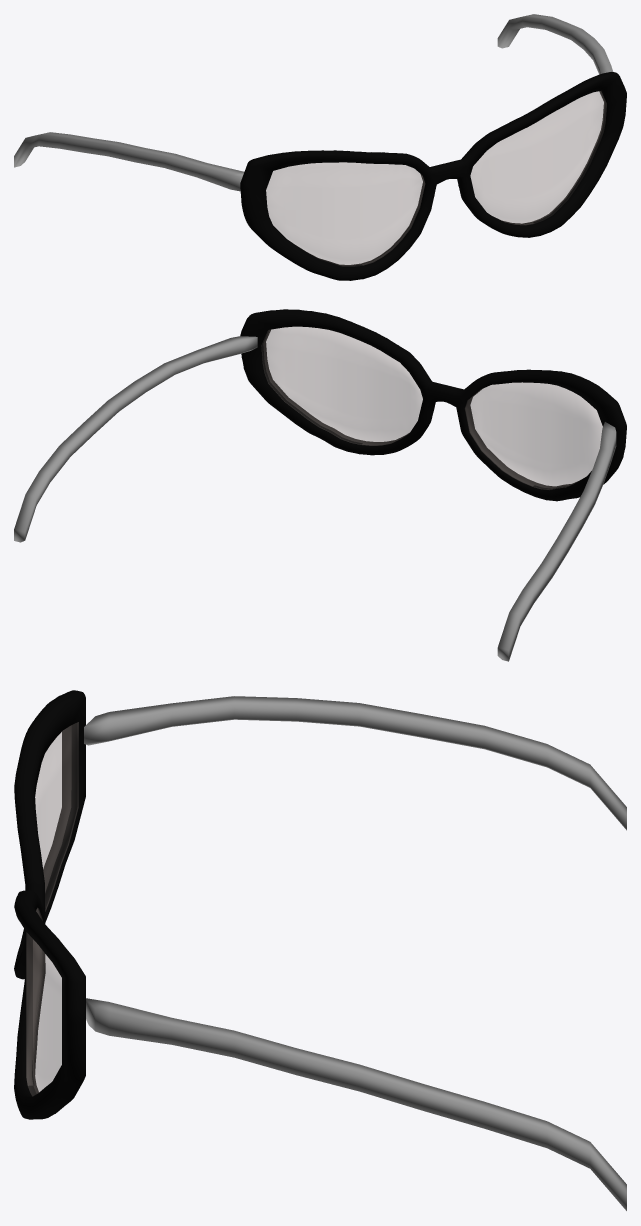
3 renders of one model, top to bottom at view 1: azimuth 30°, elevation 25°; view 2: azimuth 150°, elevation 25°; view 3: azimuth 270°, elevation 25°, orthographic. The views are drawn at different scales.
Parts seen in each view (by area): view 1: glassesCateye; view 2: glassesCateye; view 3: glassesCateye.
Part boxes in pixels (x1,y1,x2,y2): glassesCateye: (14, 14, 626, 280); glassesCateye: (14, 309, 626, 661); glassesCateye: (14, 690, 626, 1210).
Bounding box in the file's own units: 0.4642 × 0.1203 × 0.3116.
3 materials, 2 textured.
